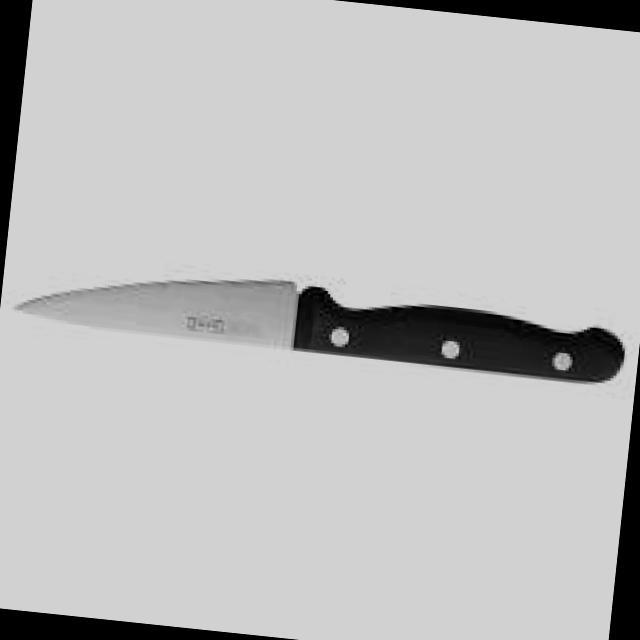Knife: (0, 188, 640, 431)
